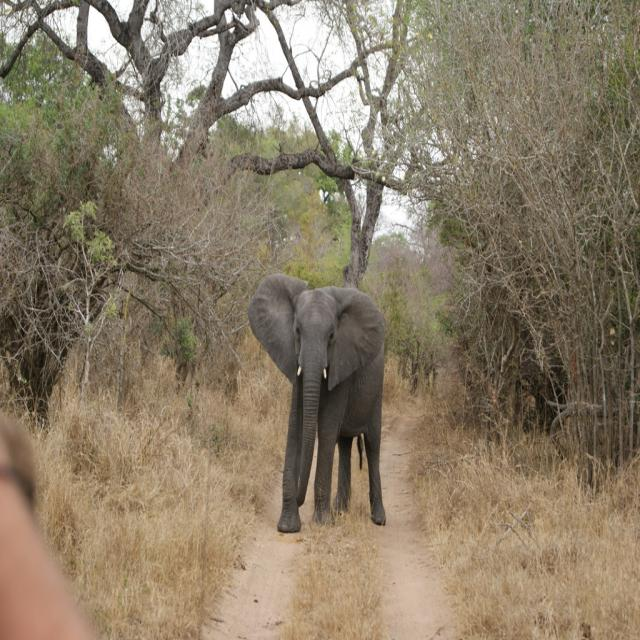Elephant: (249, 277, 397, 542)
